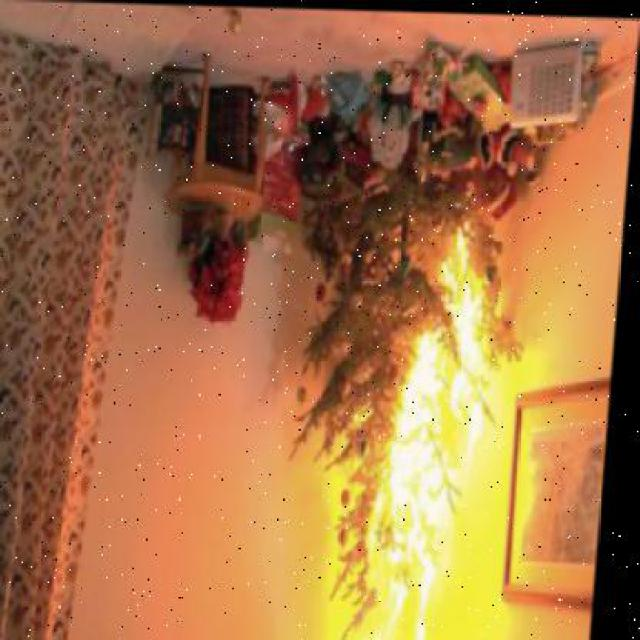fire: (301, 192, 532, 639)
